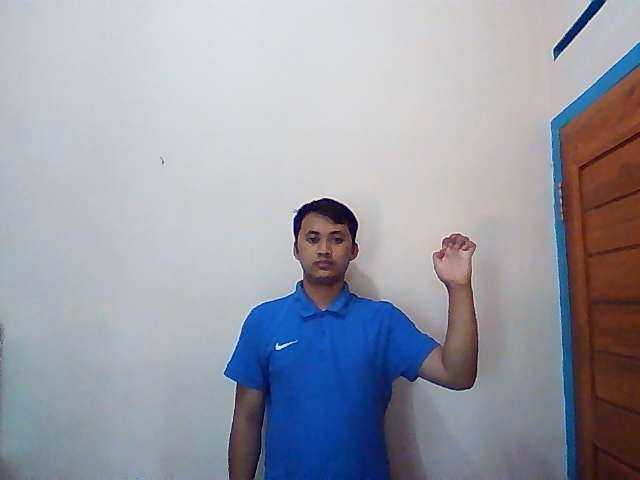E: (432, 233, 477, 284)
